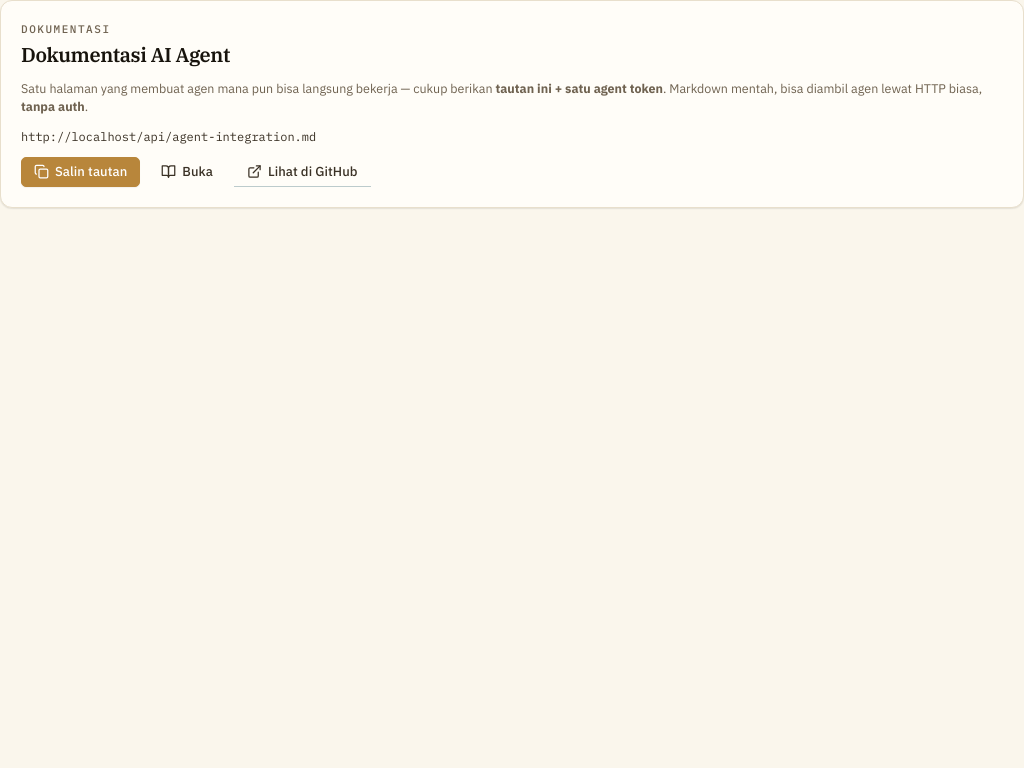
AgentDocCard › tombol Buka merender isi dari endpoint, bukan salinan lokal
Click the button "Buka" at (187, 172), box [148,156,226,186]
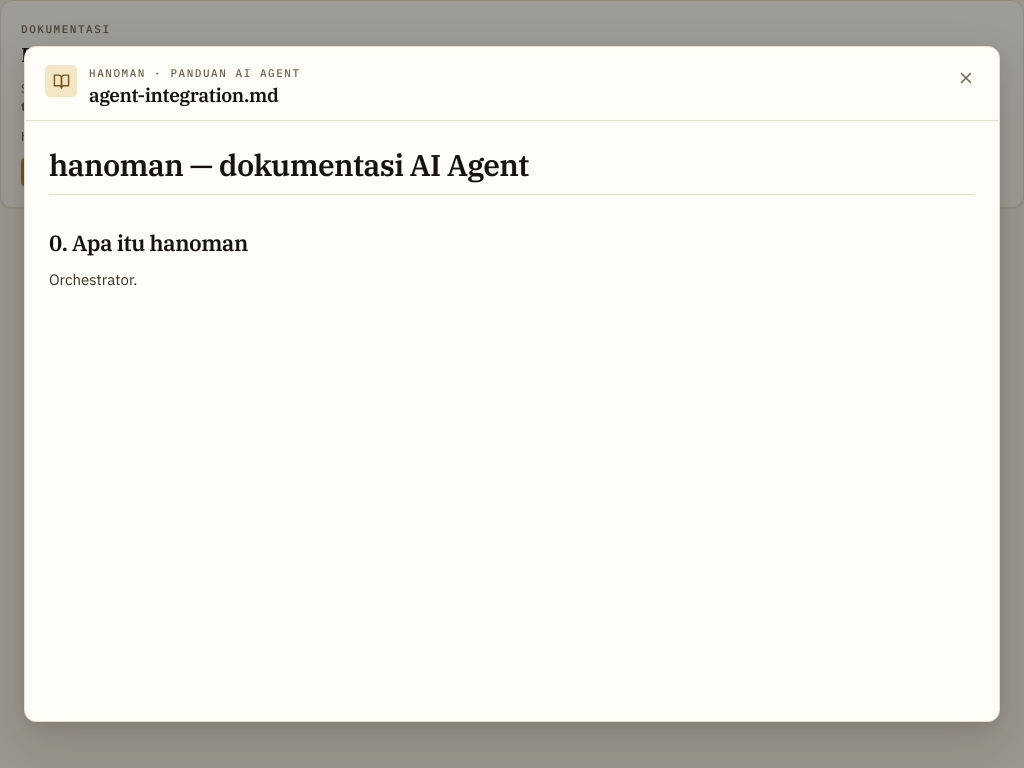
Result: the heading "0. Apa itu hanoman" is shown at [49,228,248,257]
